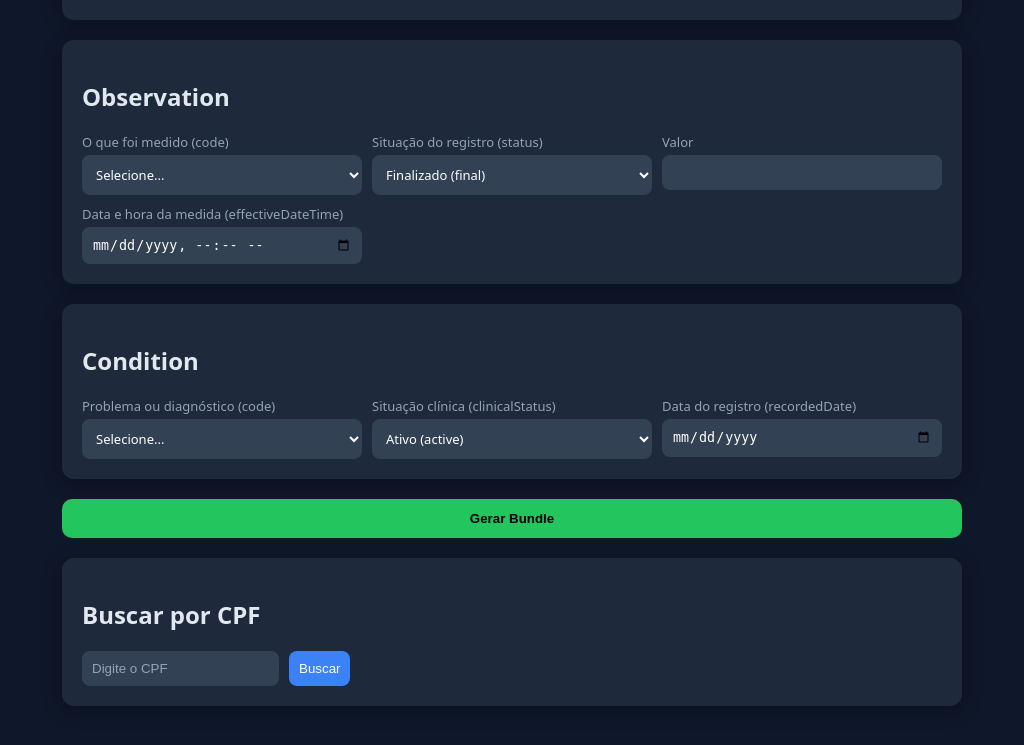
it: busca sem resultado avisa que não encontrou
This screenshot has width=1024, height=745.
(page scrolled)
Type "12345678910" into the field with placeholder "Digite o CPF".
click(180, 668); type("12345678910")  # box [82,651,279,686]
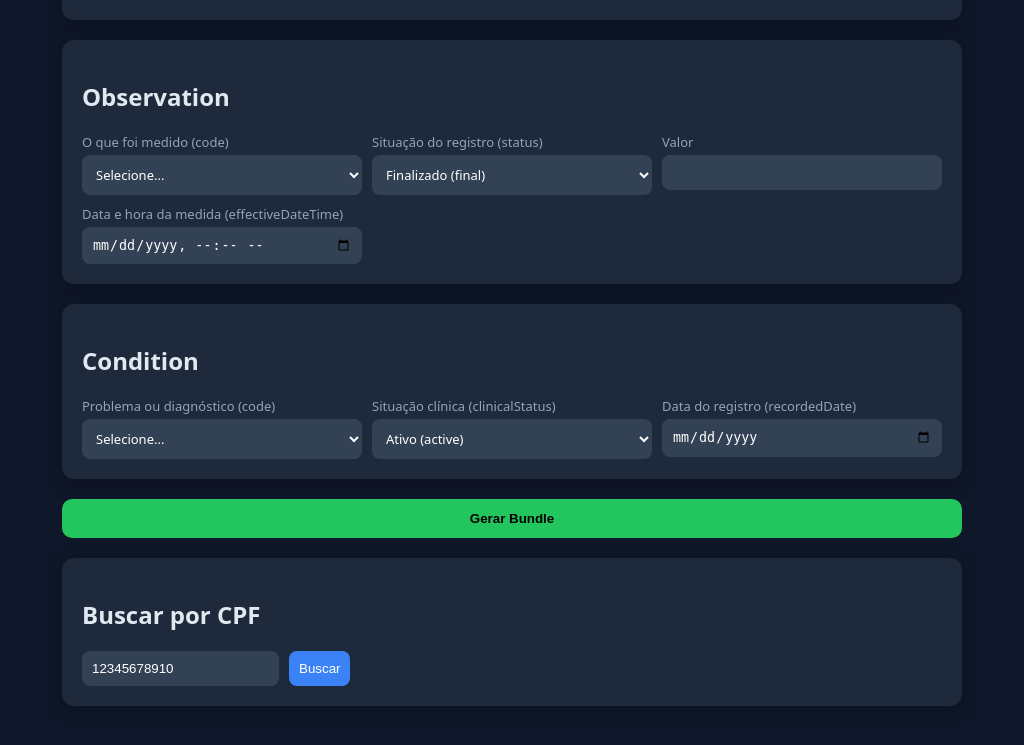
Click the button "Buscar".
click(320, 668)  # box [289,651,350,686]
(page scrolled)
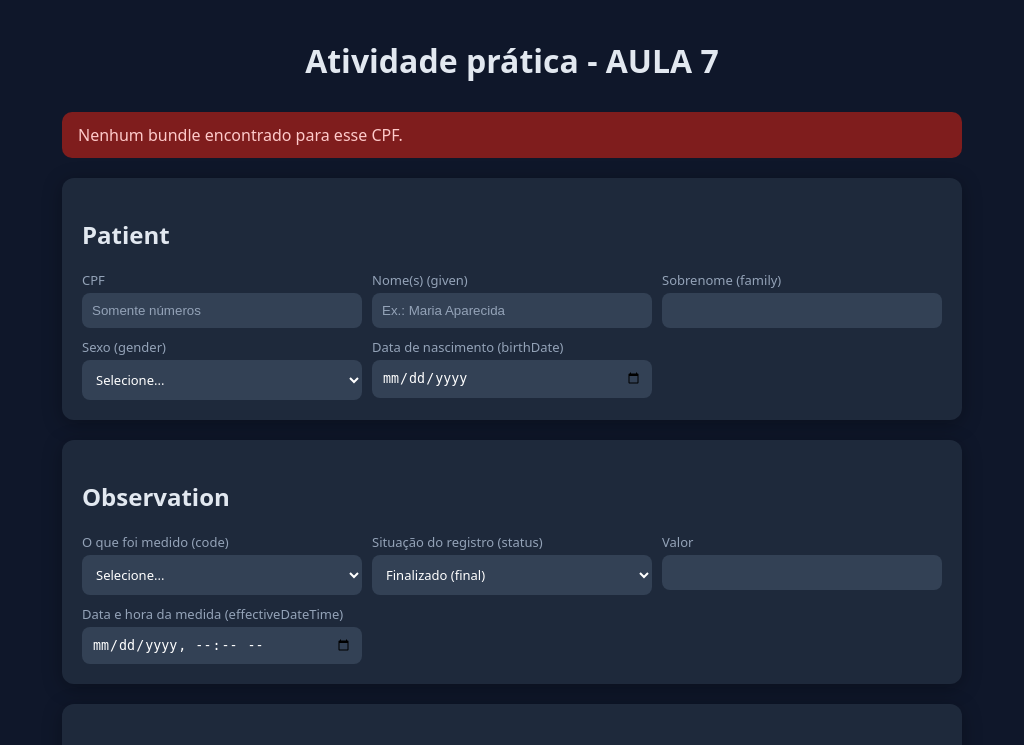
Now the message shows "Nenhum bundle encontrado para esse CPF", box [78,124,403,146]
